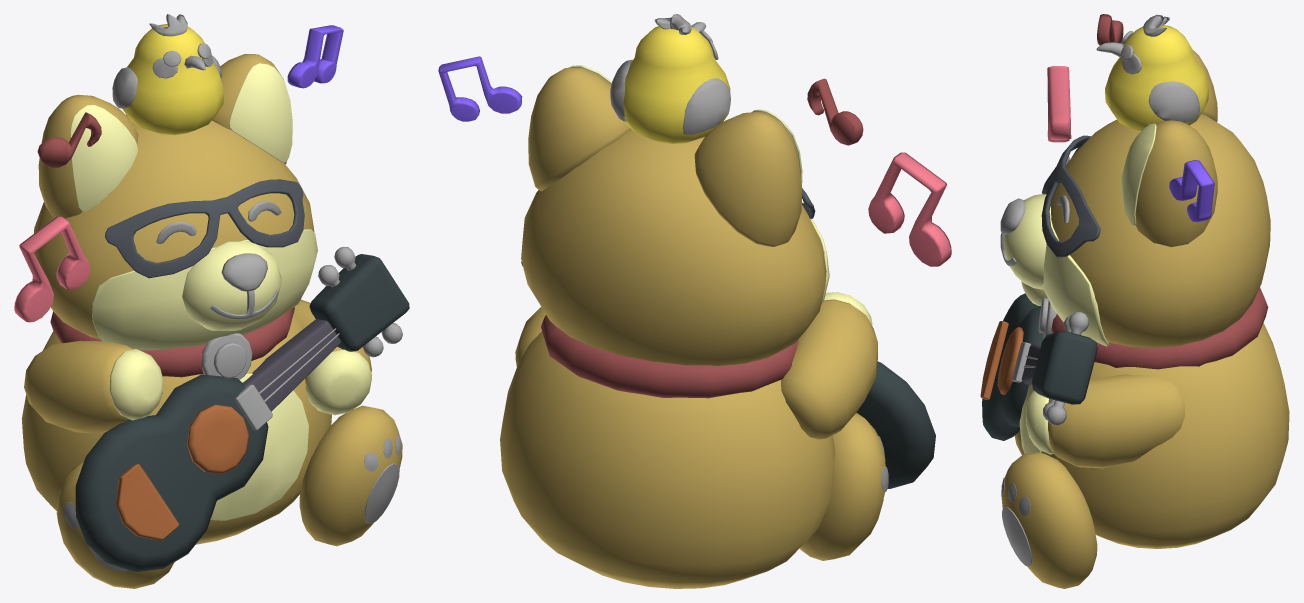
The model's file is DogMusic.fbx.
3 renders of one model, left to right at view 1: azimuth 30°, elevation 25°; view 2: azimuth 150°, elevation 25°; view 3: azimuth 270°, elevation 25°, orthographic. The views are drawn at different scales.
Parts seen in each view (by area): view 1: S_DogMusic, M_DogMusic, D_Dog_14, D_Dog_33, D_Dog_16, D_Dog_17, D_Dog_26, D_Dog_24, D_Dog_20, D_Dog_35; view 2: S_DogMusic, M_DogMusic, D_Dog_24, D_Dog_31; view 3: S_DogMusic, M_DogMusic, D_Dog_31, D_Dog_33, D_Dog_14, D_Dog_35, D_Dog_17.
Boxes of the visible parts, x1,y1,x2,y2 form: S_DogMusic: (14, 25, 371, 571); M_DogMusic: (24, 24, 409, 588); D_Dog_14: (221, 253, 267, 291); D_Dog_33: (364, 463, 399, 523); D_Dog_16: (201, 333, 252, 379); D_Dog_17: (235, 384, 272, 430); D_Dog_26: (213, 342, 246, 378); D_Dog_24: (112, 67, 137, 108); D_Dog_20: (210, 289, 278, 319); D_Dog_35: (149, 14, 187, 36); S_DogMusic: (438, 56, 951, 588); M_DogMusic: (515, 26, 885, 560); D_Dog_24: (683, 78, 730, 134); D_Dog_31: (610, 60, 632, 121); S_DogMusic: (980, 14, 1289, 548); M_DogMusic: (1001, 25, 1217, 588); D_Dog_31: (1148, 81, 1199, 122); D_Dog_33: (1002, 507, 1031, 566); D_Dog_14: (1000, 198, 1025, 234); D_Dog_35: (1143, 14, 1169, 36); D_Dog_17: (1011, 342, 1031, 382).
Size of the model in its own units: 517 by 647 by 354.
